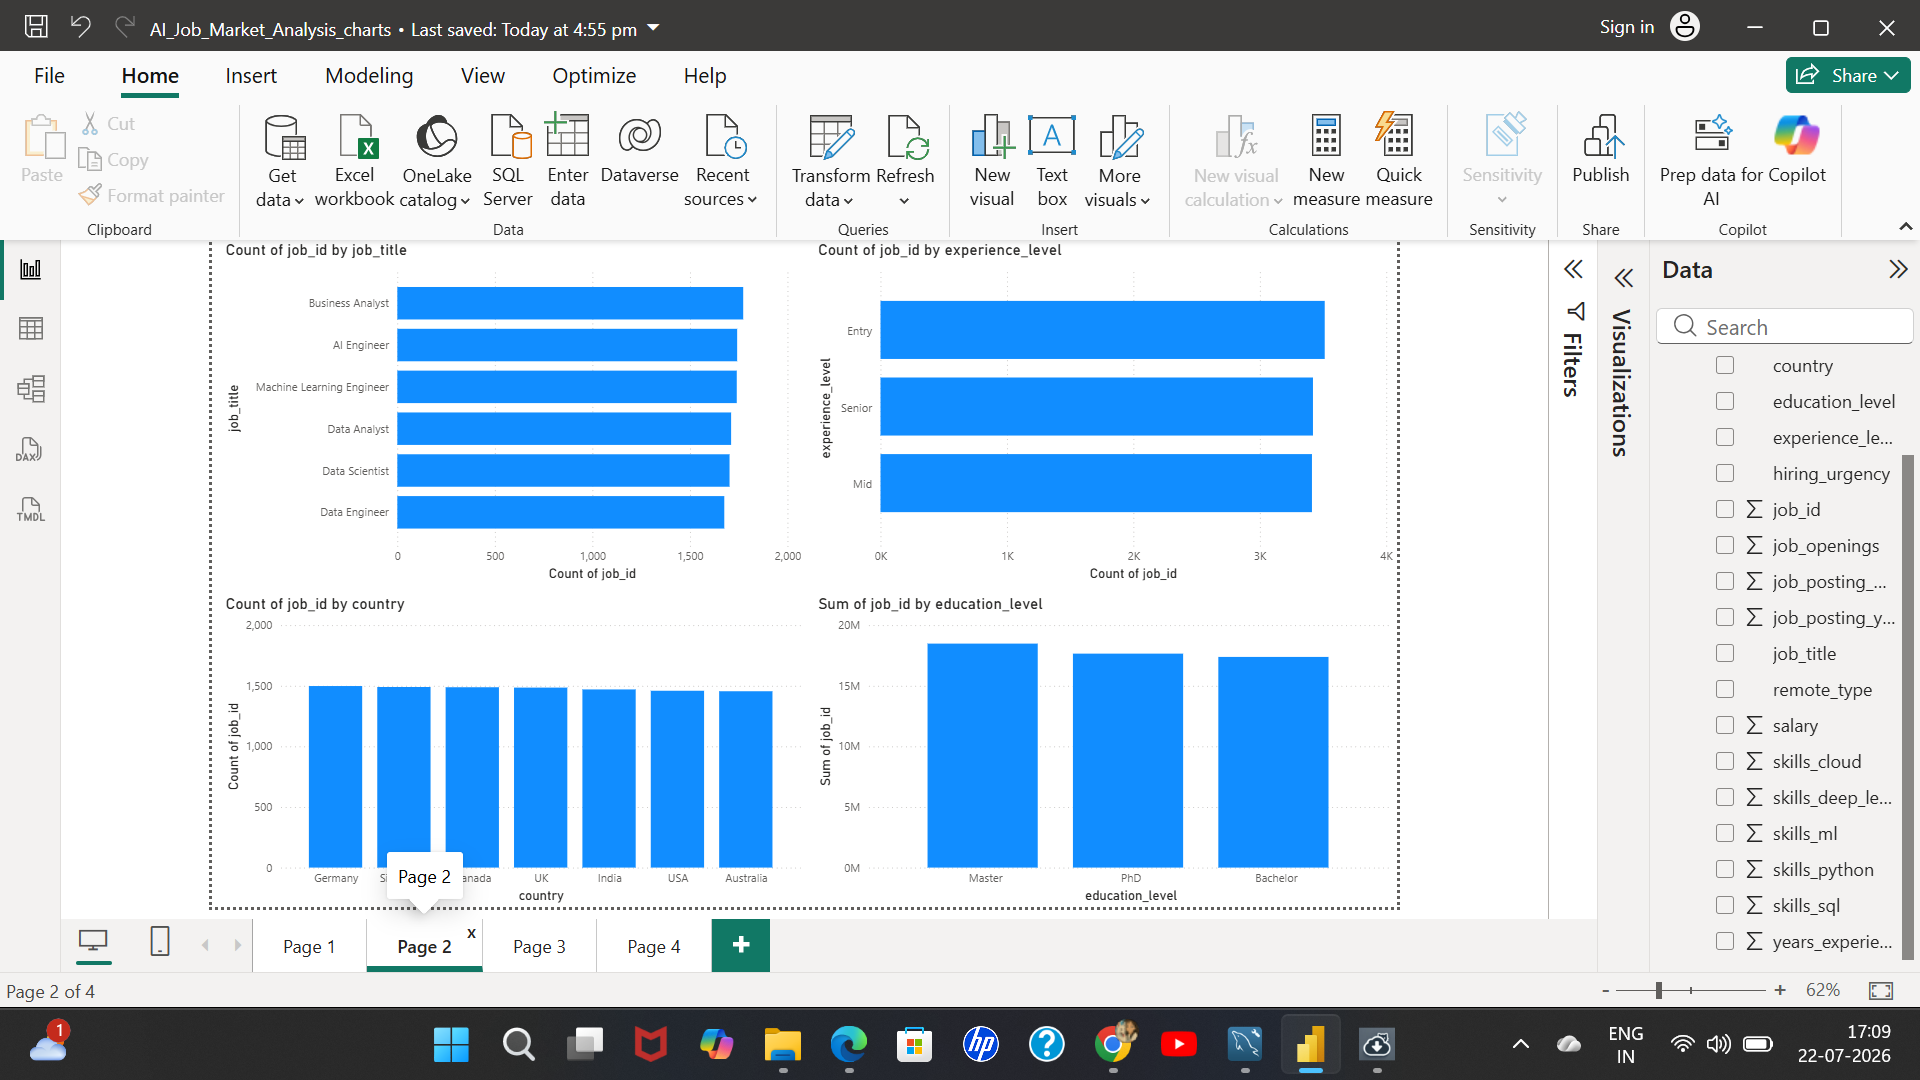

The page's visual inventory and layout, read from the dashboard file:
{"tool":"powerbi","page":{"name":"Page 2","canvas":[1280,720],"ordinal":1},"visuals":[{"type":"clusteredBarChart","fields":{"Category":["AI Job Market Dataset.job_title"],"Y":["CountNonNull(AI Job Market Dataset.job_id)"]},"box":[9.4,0,631.2,372.3],"z":0},{"type":"clusteredColumnChart","fields":{"Category":["AI Job Market Dataset.country"],"Y":["CountNonNull(AI Job Market Dataset.job_id)"]},"box":[9,382,631,338],"z":1},{"type":"barChart","fields":{"Category":["AI Job Market Dataset.experience_level"],"Y":["Count(AI Job Market Dataset.job_id)"]},"box":[650,0,630,372],"z":2},{"type":"columnChart","fields":{"Category":["AI Job Market Dataset.education_level"],"Y":["Sum(AI Job Market Dataset.job_id)"]},"box":[650,382,630,338],"z":3}]}

Visuals, with their boxes on the page's 1280x720 design canvas (x1, y1, x2, y2). These are canvas units, not pixel positions in the 1920x1080 screenshot, which may show the page scaled, cropped or inside an application window:
clusteredBarChart - AI Job Market Dataset.job_title x CountNonNull(AI Job Market Dataset.job_id): <region>9, 0, 641, 372</region>
clusteredColumnChart - AI Job Market Dataset.country x CountNonNull(AI Job Market Dataset.job_id): <region>9, 382, 640, 720</region>
barChart - AI Job Market Dataset.experience_level x Count(AI Job Market Dataset.job_id): <region>650, 0, 1280, 372</region>
columnChart - AI Job Market Dataset.education_level x Sum(AI Job Market Dataset.job_id): <region>650, 382, 1280, 720</region>
